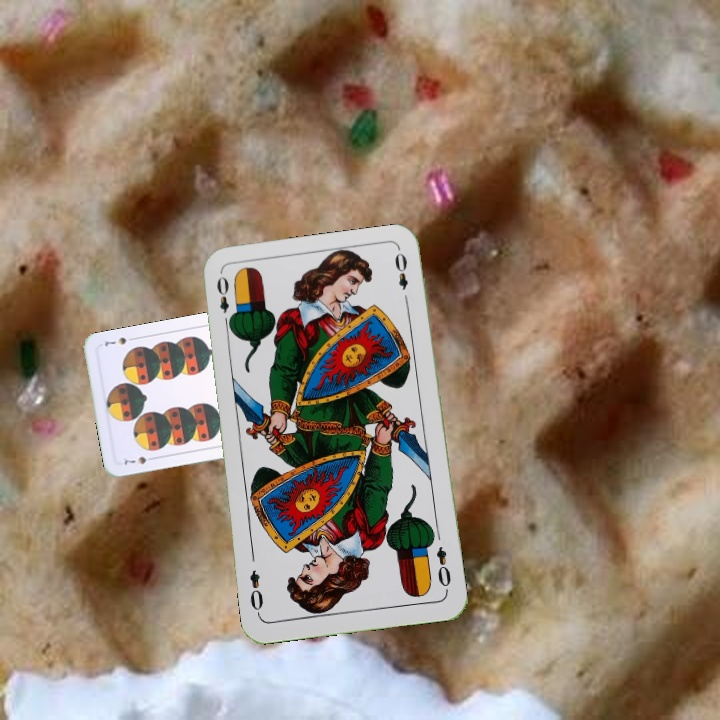EO: (212, 272, 236, 330), (432, 542, 454, 594)
S7: (120, 452, 158, 467)
